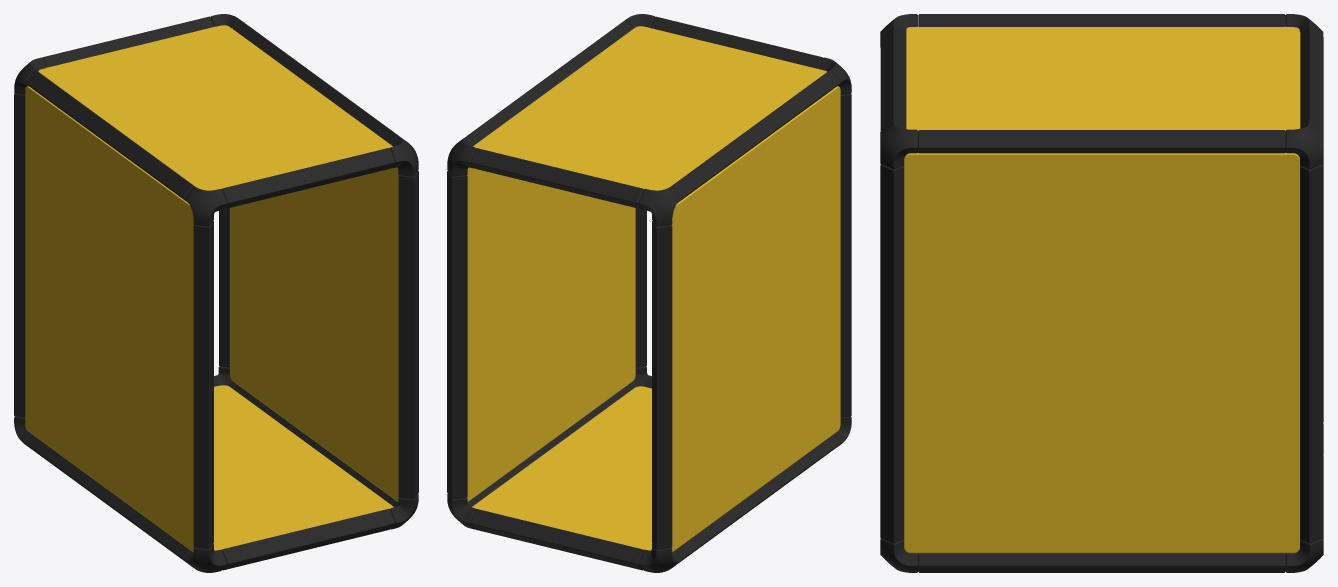
The picture shows the model from 3 angles, left to right: view 1: azimuth 30°, elevation 25°; view 2: azimuth 150°, elevation 25°; view 3: azimuth 270°, elevation 25°; orthographic projection. The views are drawn at different scales.
Parts seen in each view (by area): view 1: 229x374x420; view 2: 229x374x420; view 3: 229x374x420.
Part boxes in pixels (bbox=[...]): 229x374x420: bbox=[14, 14, 418, 572]; 229x374x420: bbox=[447, 14, 851, 572]; 229x374x420: bbox=[880, 14, 1323, 572].
Bounding box in the file's own units: 0.3067 × 0.4976 × 0.4513.
